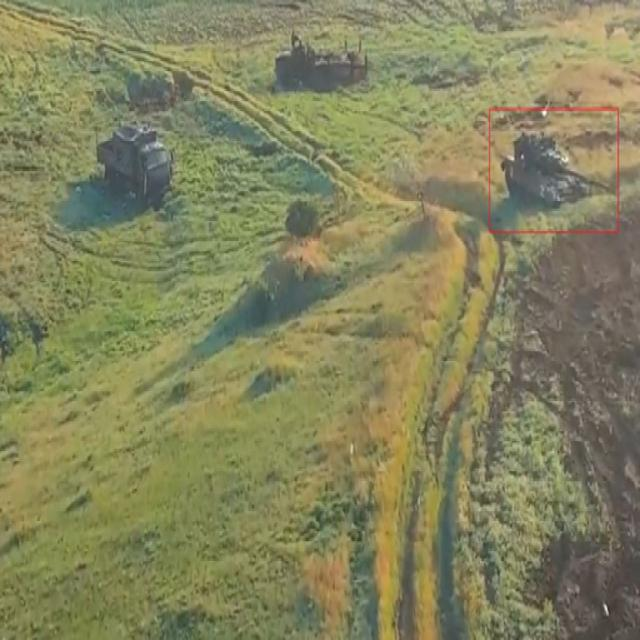TANK: (498, 126, 612, 218)
TRUCK: (92, 107, 172, 211), (272, 29, 373, 95)
